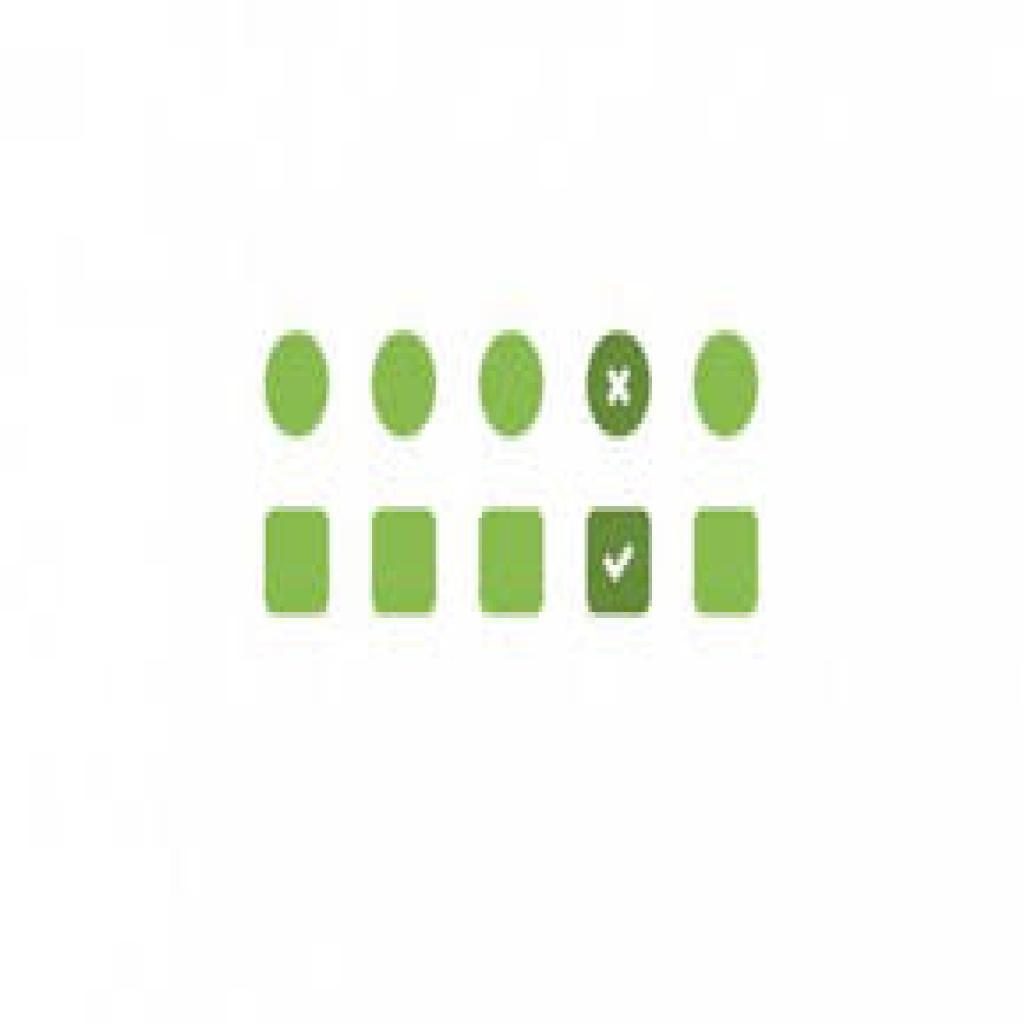checkbox: (262, 330, 333, 442), (582, 333, 655, 439), (475, 333, 548, 436), (694, 332, 765, 437), (371, 332, 440, 437), (693, 513, 762, 613), (588, 513, 654, 614), (481, 513, 547, 611), (372, 513, 434, 616), (264, 514, 330, 610)
